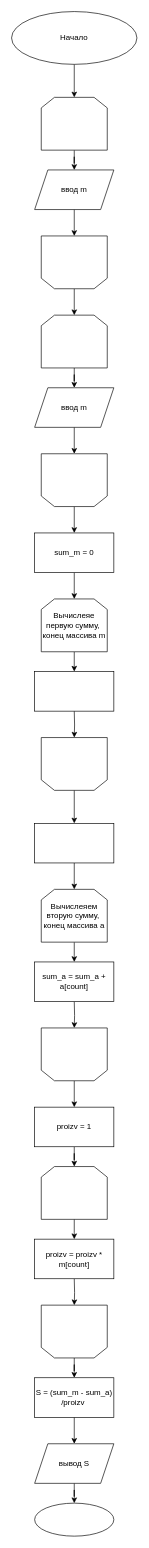
Image size: 149x1548. Some labels were removed from this diagram. Each missing label, with the centre of its shape:
sum_a = 0: (x=74, y=843)
sum_m = sum_m + (m +0.72) **2: (x=74, y=691)
Ввод массива m, конец массива m: (x=74, y=123)
Ввод массива а, конец массива а: (x=74, y=341)
Вычислеяем произведение m, конец массива m: (x=74, y=1192)
Конец: (x=74, y=1519)
